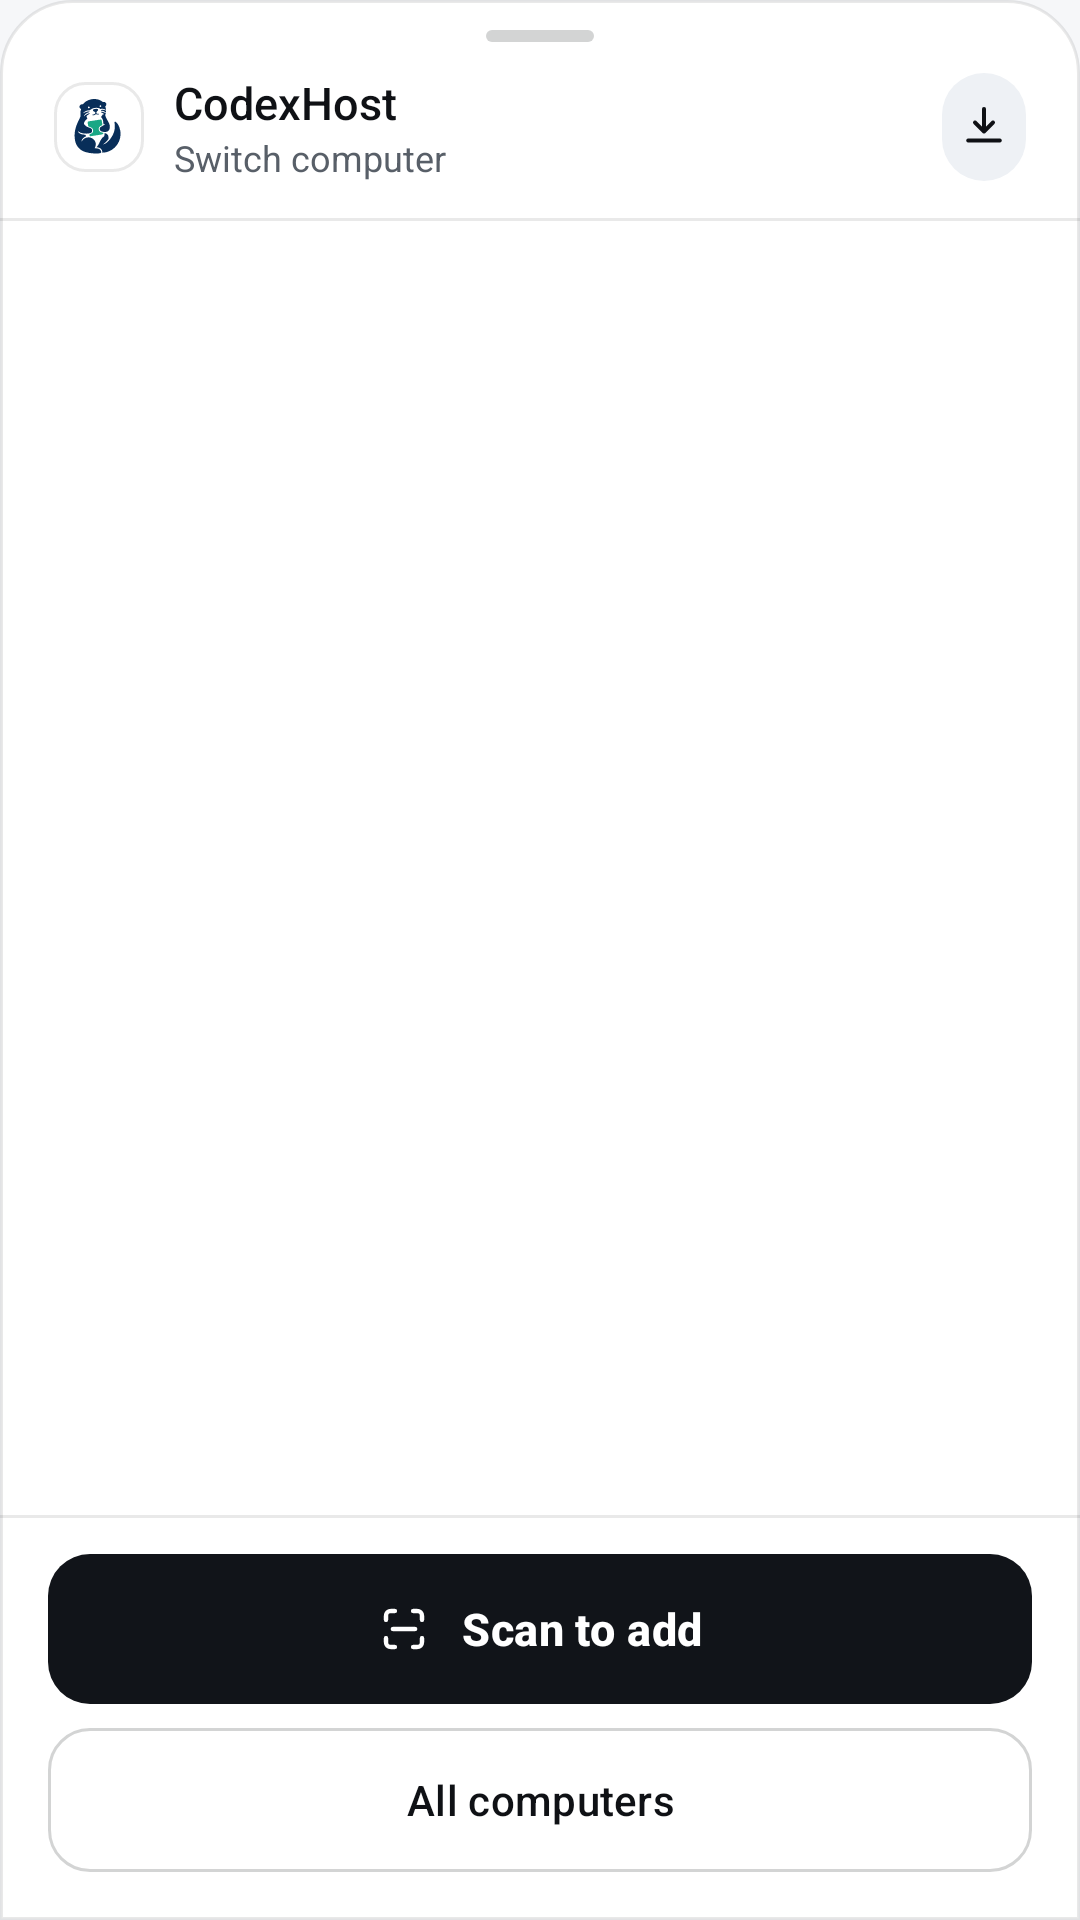

Screen size 1080px×1920px. Icon name, then its center in pixels as point (x, y):
Check for updates: point (984, 127)
